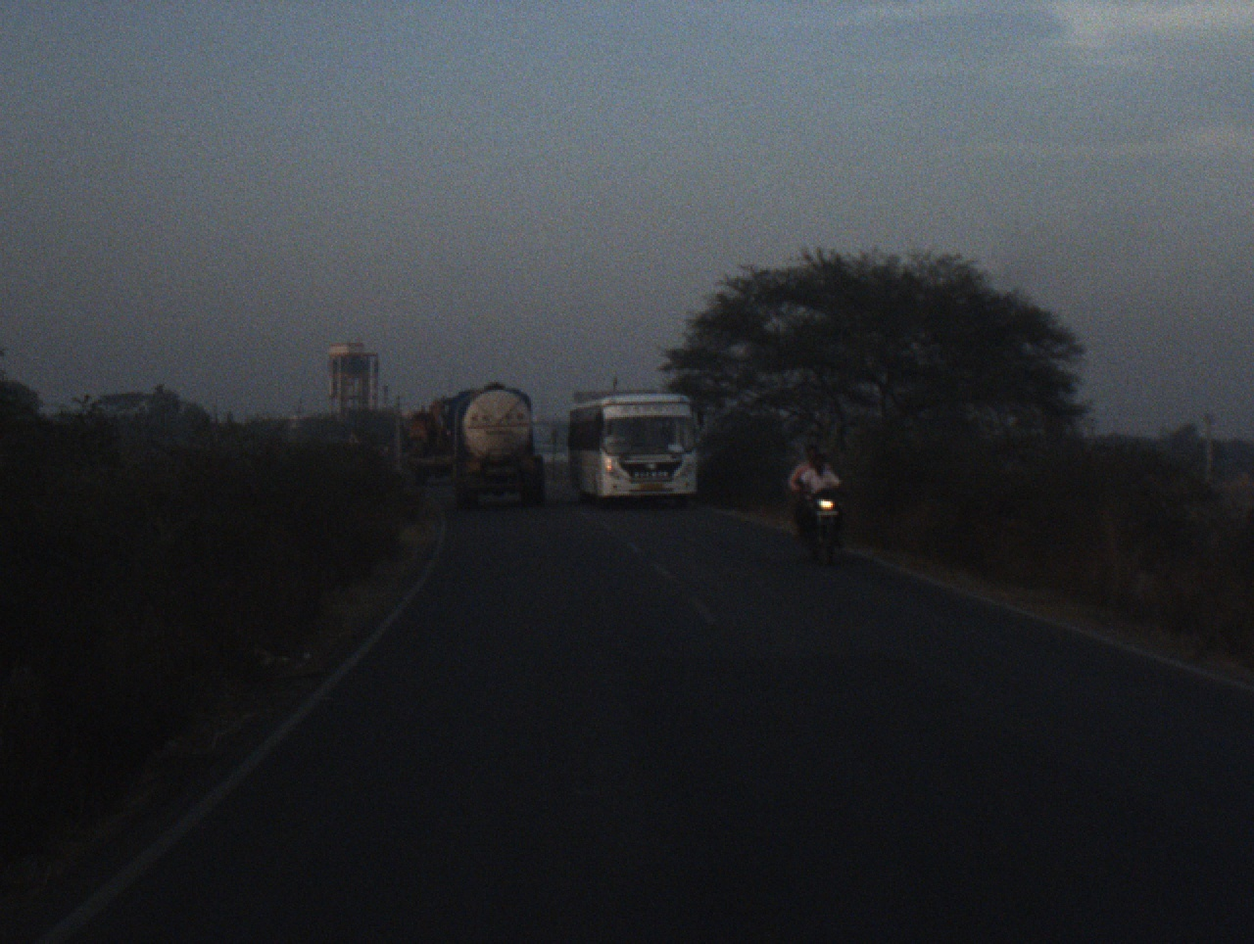bus: (565, 392, 706, 513)
motorcycle: (791, 477, 849, 569)
rider: (797, 454, 844, 550), (786, 442, 834, 535)
truck: (438, 379, 550, 518)
vehicle fallback: (381, 388, 467, 492)
